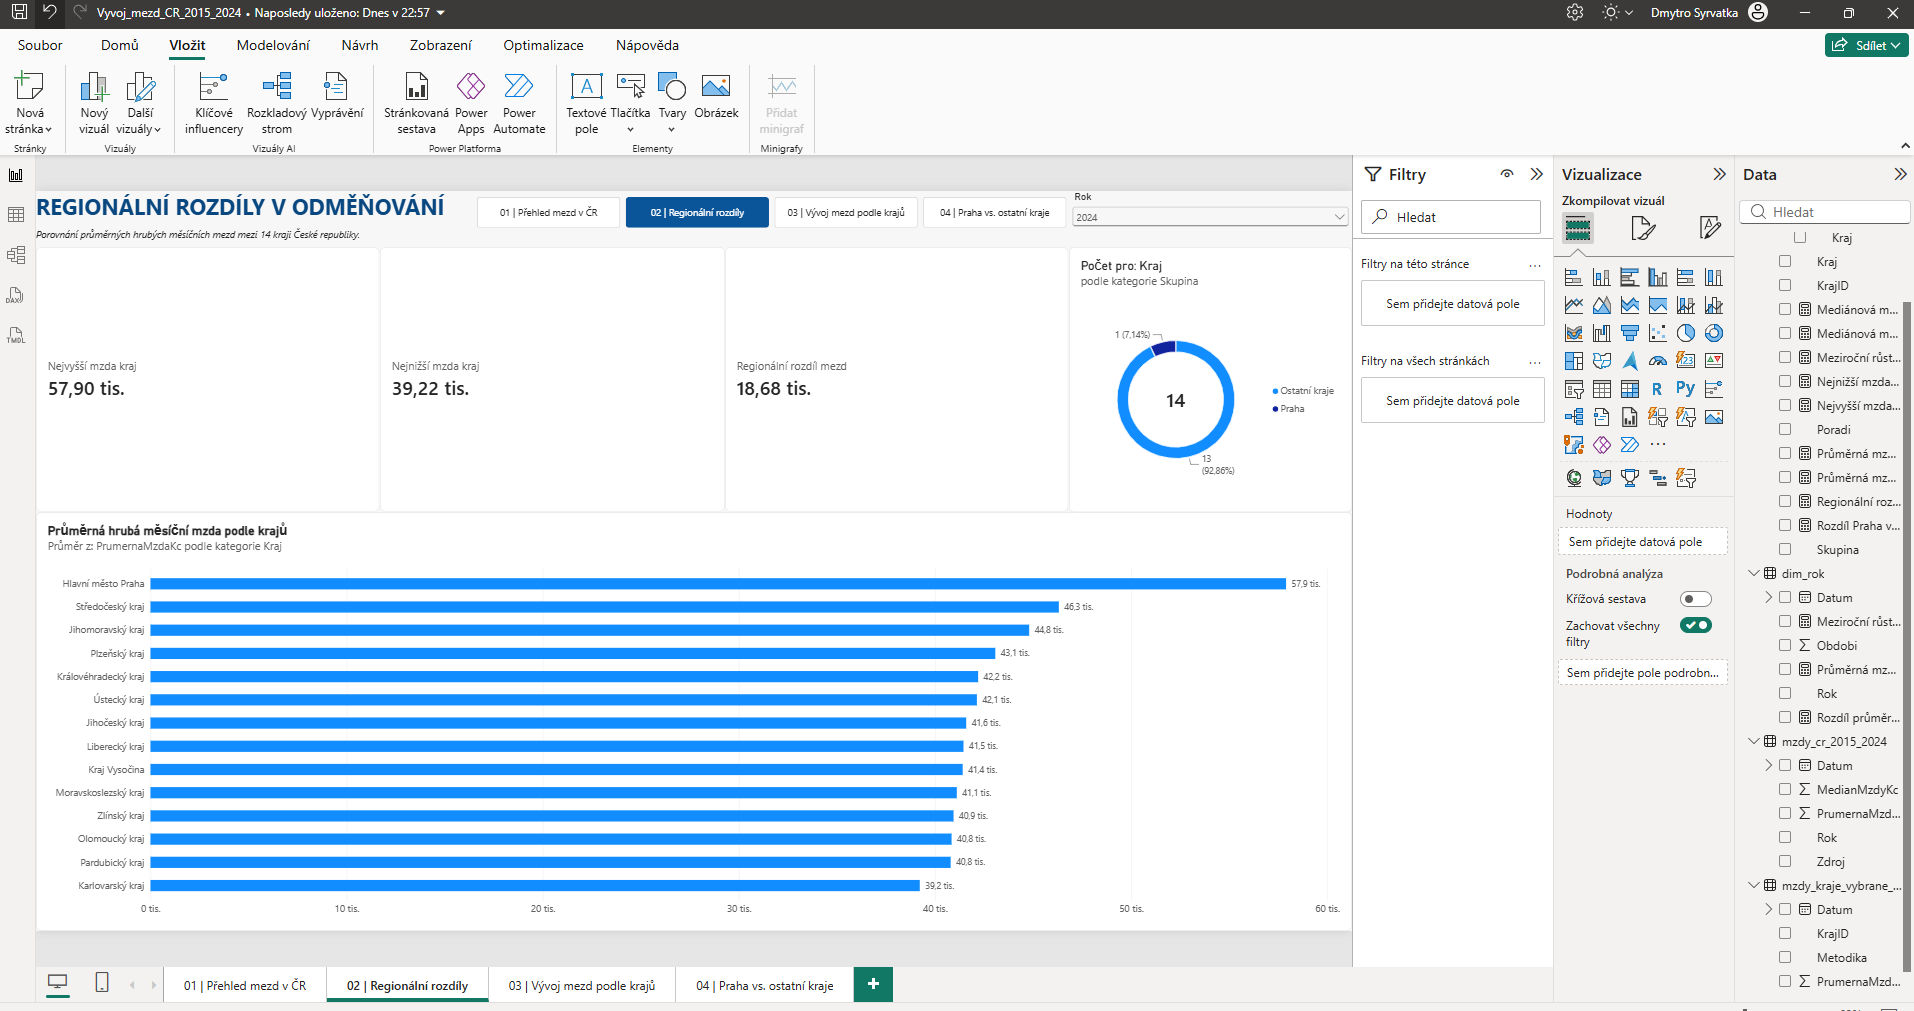

Layout of this report page (visuals, bound fields, positions):
{"tool":"powerbi","page":{"name":"02 | Regionální rozdíly","canvas":[1920,1080],"ordinal":1},"visuals":[{"type":"clusteredBarChart","title":"Průměrná hrubá měsíční mzda podle krajů","fields":{"Category":["dim_kraj.Kraj"],"Y":["Avg(mzdy_kraje_vybrane_roky.PrumernaMzdaKc)"]},"box":[0,468.3,1920,611.3],"z":0},{"type":"slicer","fields":{"Values":["dim_rok.Rok"]},"box":[1507.1,0,412.9,81.7],"z":1000},{"type":"cardVisual","fields":{"Data":["dim_kraj.Nejvyšší mzda kraj"]},"box":[0,81.7,501.9,386.6],"z":2000},{"type":"cardVisual","fields":{"Data":["dim_kraj.Nejnižší mzda kraj"]},"box":[501.9,81.7,503.3,386.6],"z":3000},{"type":"cardVisual","fields":{"Data":["dim_kraj.Regionální rozdíl mezd"]},"box":[1005.2,81.7,501.9,386.6],"z":4000},{"type":"textbox","box":[0,0,1507.1,54],"z":5000},{"type":"textbox","box":[0,54,1507.1,27.7],"z":6000},{"type":"donutChart","fields":{"Category":["dim_kraj.Skupina"],"Y":["Count(dim_kraj.Kraj)"]},"box":[1507,82,413,387],"z":7000},{"type":"pageNavigator","box":[643.4,8.8,863.7,45.2],"z":8000}]}

Visuals, with their boxes on the page's 1920x1080 design canvas (x1, y1, x2, y2). These are canvas units, not pixel positions in the 1914x1011 screenshot, which may show the page scaled, cropped or inside an application window:
"Průměrná hrubá měsíční mzda podle krajů" clusteredBarChart: <box>0,468,1920,1080</box>
slicer - dim_rok.Rok: <box>1507,0,1920,82</box>
cardVisual - dim_kraj.Nejvyšší mzda kraj: <box>0,82,502,468</box>
cardVisual - dim_kraj.Nejnižší mzda kraj: <box>502,82,1005,468</box>
cardVisual - dim_kraj.Regionální rozdíl mezd: <box>1005,82,1507,468</box>
textbox: <box>0,0,1507,54</box>
textbox: <box>0,54,1507,82</box>
donutChart - dim_kraj.Skupina x Count(dim_kraj.Kraj): <box>1507,82,1920,469</box>
pageNavigator: <box>643,9,1507,54</box>
